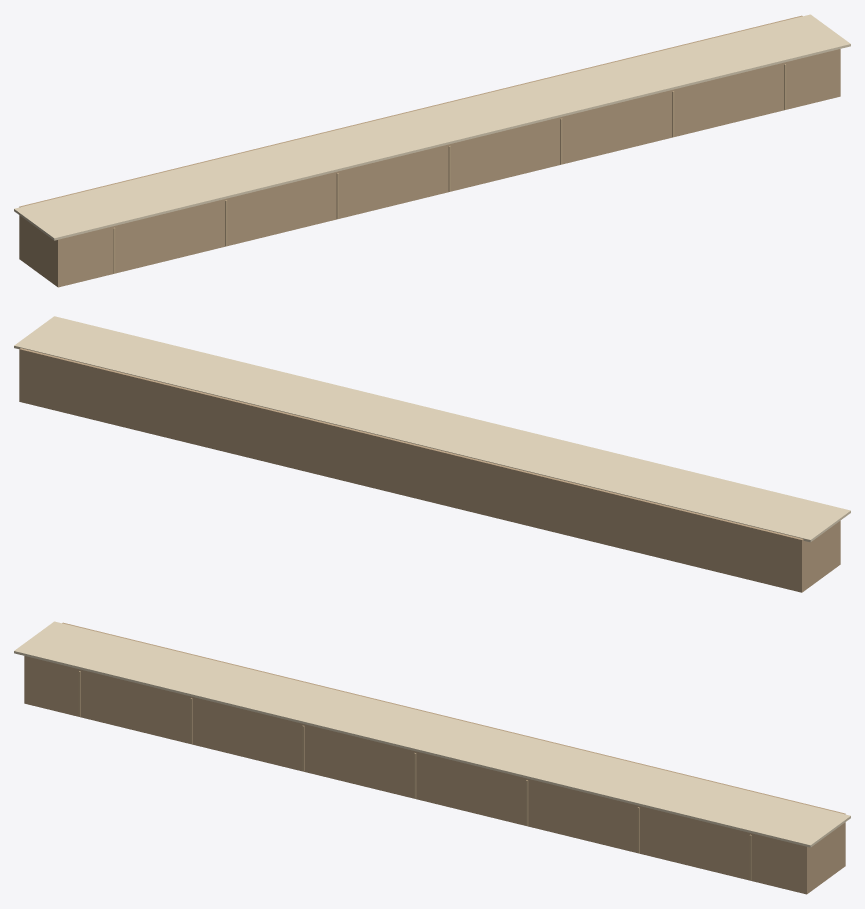
Rendered from repisa_cantaros.glb.
The picture shows the model from 3 angles, top to bottom: view 1: azimuth 30°, elevation 25°; view 2: azimuth 150°, elevation 25°; view 3: azimuth 330°, elevation 25°; orthographic projection.
Parts seen in each view (by area): view 1: repisa_cantaros; view 2: repisa_cantaros; view 3: repisa_cantaros.
Boxes of the visible parts, x1,y1,x2,y2 form: repisa_cantaros: (14, 14, 850, 287); repisa_cantaros: (14, 316, 850, 592); repisa_cantaros: (14, 621, 850, 894).
Bounding box in the file's own units: 28.5 × 1.82 × 2.6.
